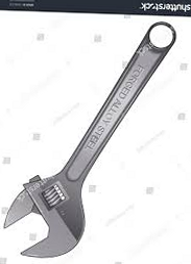Wrench: (9, 17, 186, 264)
